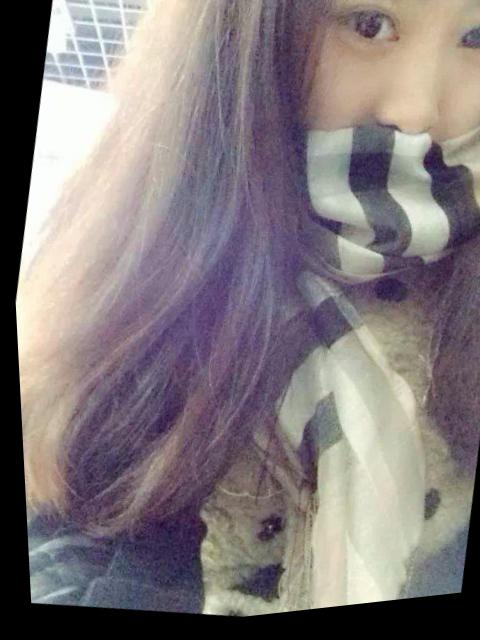WRONG: (258, 1, 480, 289)
